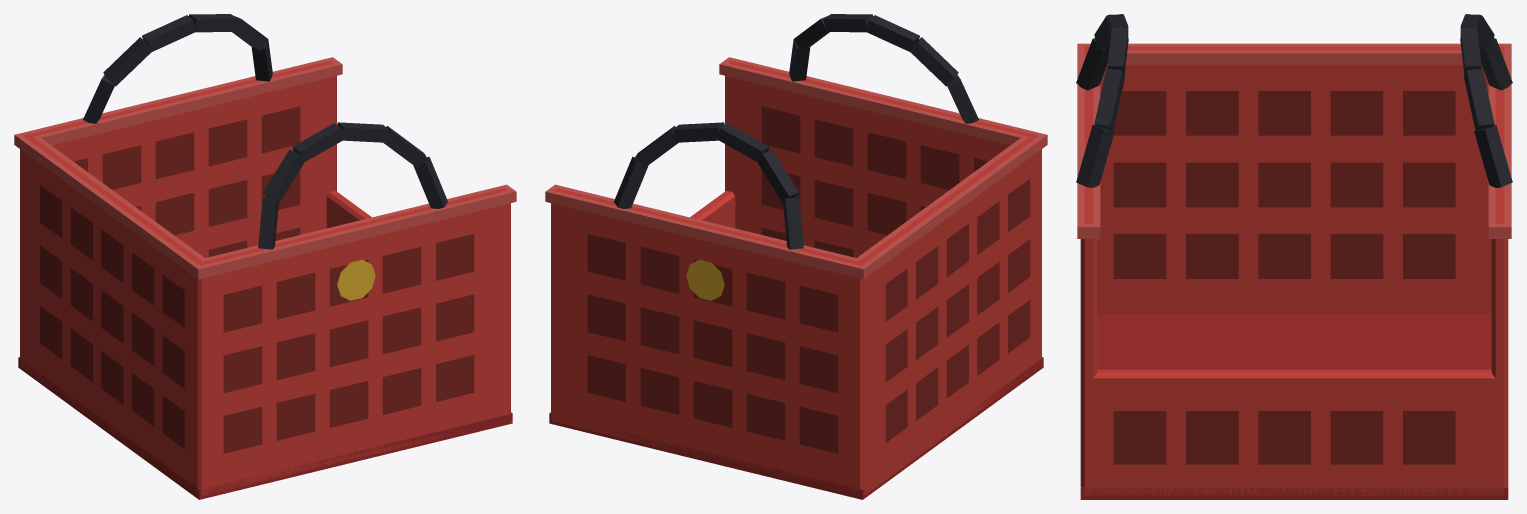
File: market-hide.glb
The picture shows the model from 3 angles, left to right: view 1: azimuth 30°, elevation 25°; view 2: azimuth 150°, elevation 25°; view 3: azimuth 270°, elevation 25°; orthographic projection. The views are drawn at different scales.
Parts seen in each view (by area): view 1: market-hide; view 2: market-hide; view 3: market-hide.
Boxes of the visible parts, left/top/right/bottom form: market-hide: left=14, top=14, right=516, bottom=499; market-hide: left=545, top=14, right=1047, bottom=499; market-hide: left=1076, top=14, right=1512, bottom=499.
Size of the model in its own units: 1.32 by 1.28 by 1.33.
